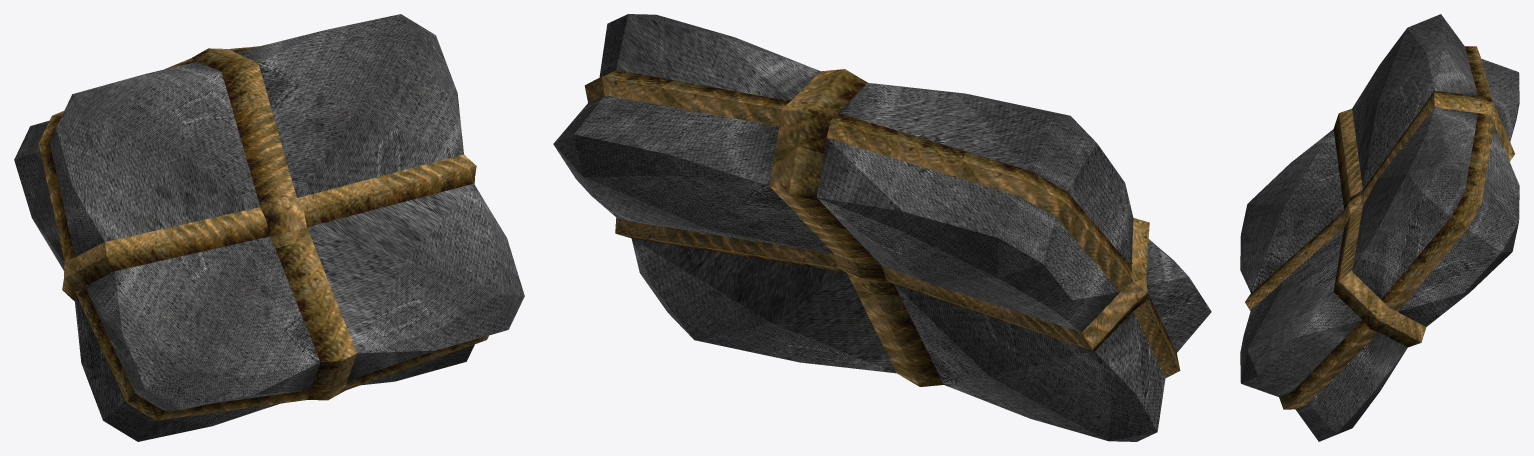
Rendered from KM_ITMI_PACKET_06.glb.
3 views of the same model, side by side, from view 1: azimuth 30°, elevation 25°; view 2: azimuth 150°, elevation 25°; view 3: azimuth 270°, elevation 25° (orthographic). The views are drawn at different scales.
Visible parts, largest first — view 1: KM_ITMI_PACKET_06; view 2: KM_ITMI_PACKET_06; view 3: KM_ITMI_PACKET_06.
Boxes of the visible parts, x1,y1,x2,y2 form: KM_ITMI_PACKET_06: (14,14,524,441); KM_ITMI_PACKET_06: (553,14,1211,441); KM_ITMI_PACKET_06: (1240,14,1519,441).
Size of the model in its own units: 0.4578 by 0.3212 by 0.2897.
Materials: 2 (2 with a texture image).
